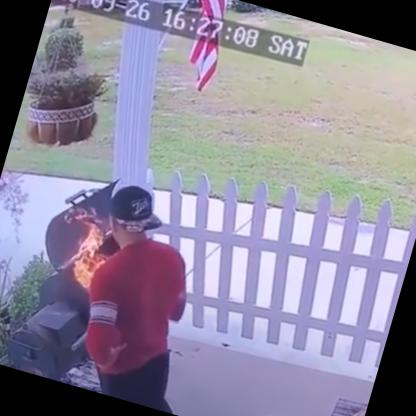Human Body: (49, 174, 249, 415)
